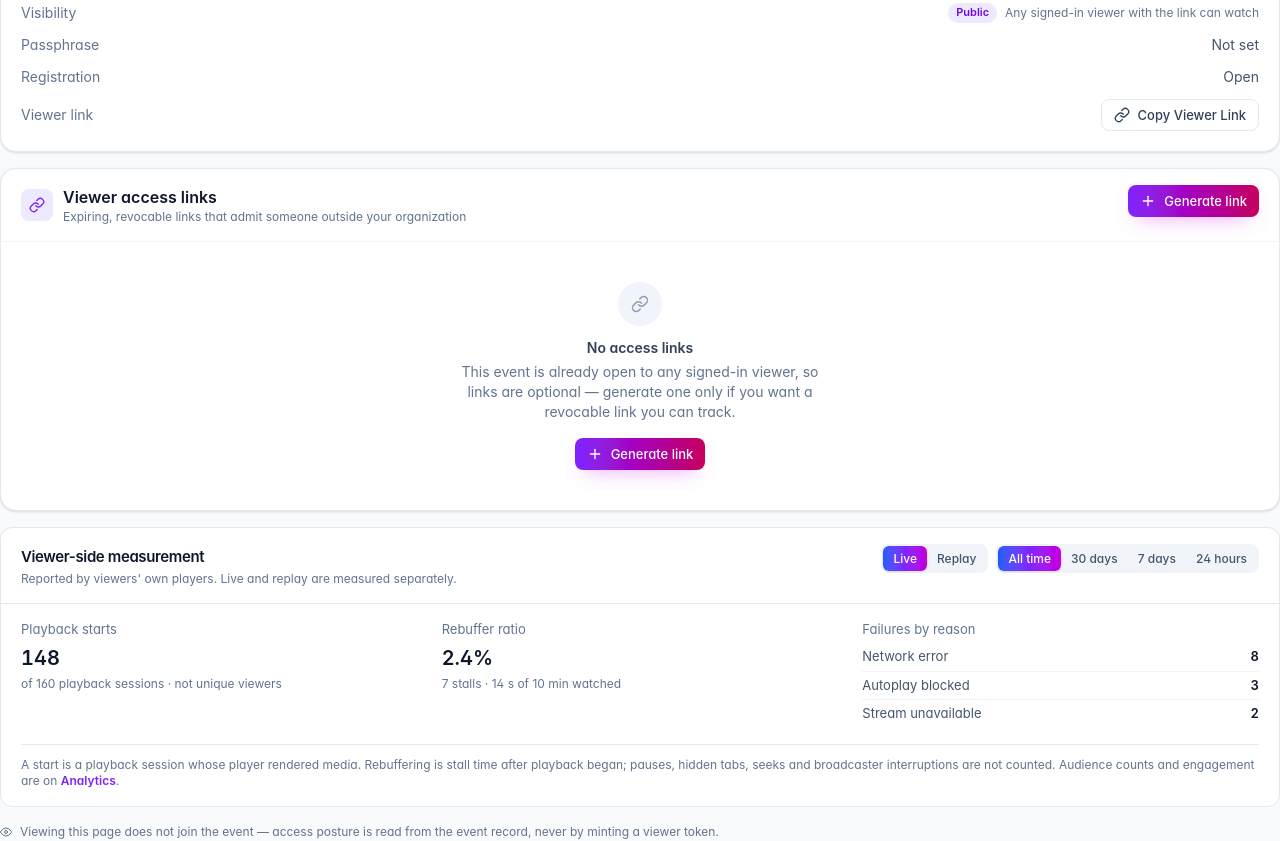
it: viewer-side measurement › keeps live and replay apart, and says so when there were no failures
This screenshot has width=1280, height=841.
(page scrolled)
Expected: the text "148" is shown, [21,646,60,670]
Step 1. Click the button "Replay" → (957, 559), box [927,546,986,571]
(page scrolled)
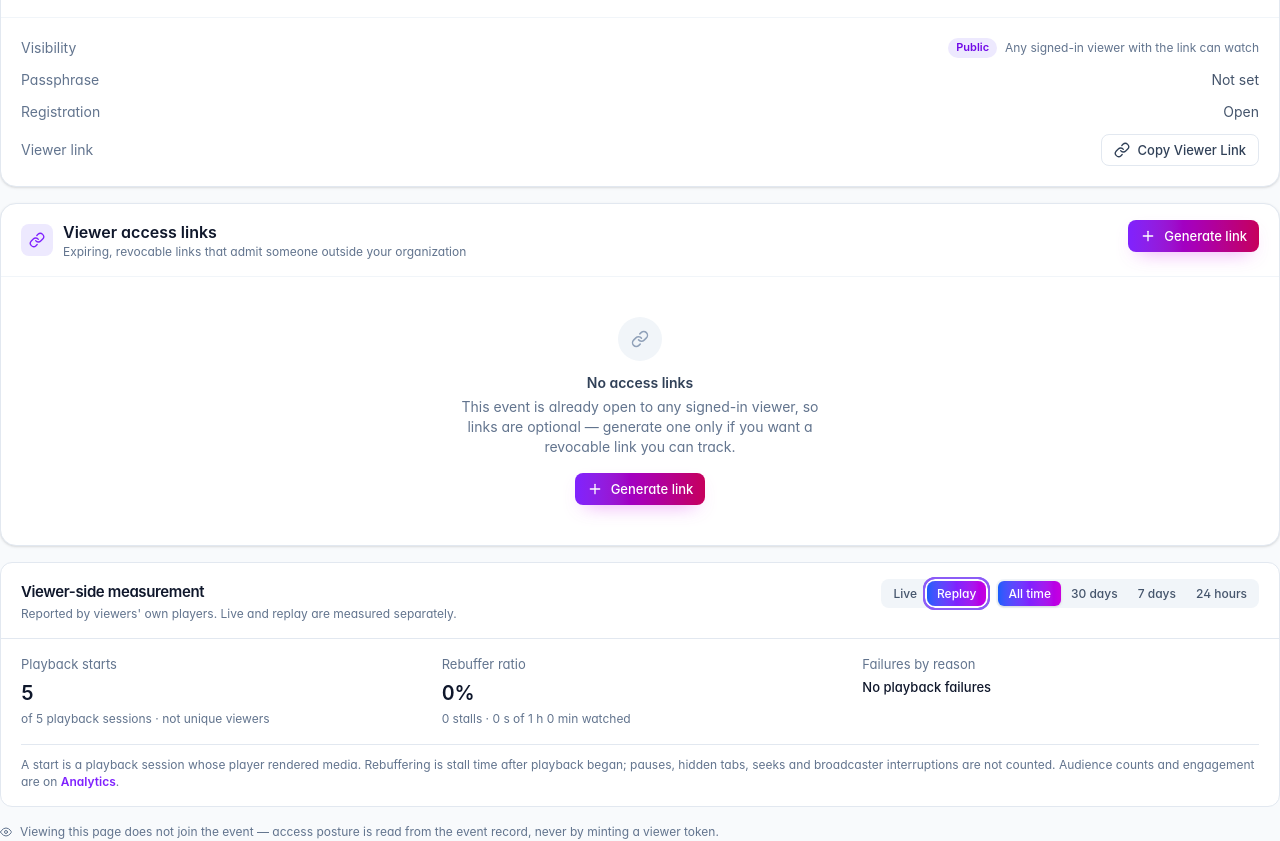
Now the text "5" is shown, box [21,681,34,705]
Now the text "0%" is shown, box [442,681,475,705]
Now the text "No playback failures" is shown, box [862,679,991,695]
